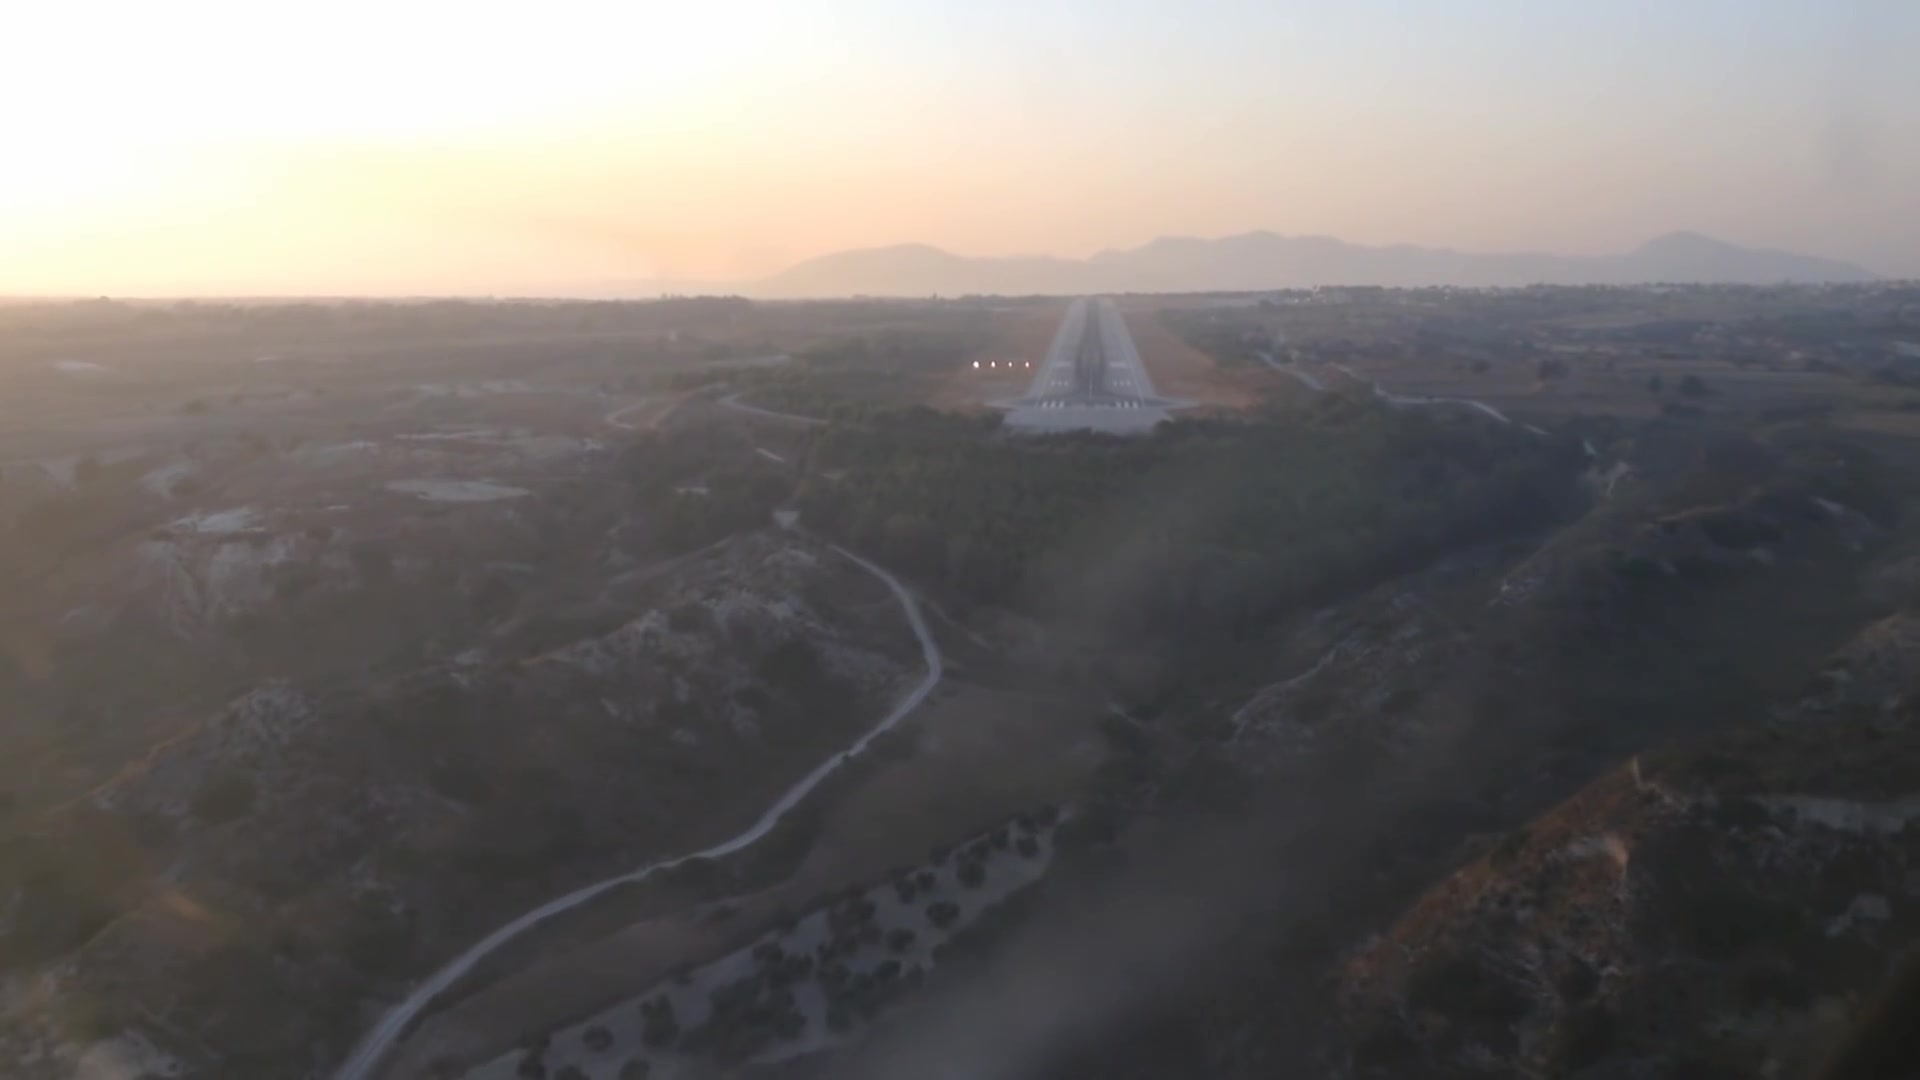entrance: (1042, 397, 1145, 415)
runway: (1019, 301, 1168, 431)
